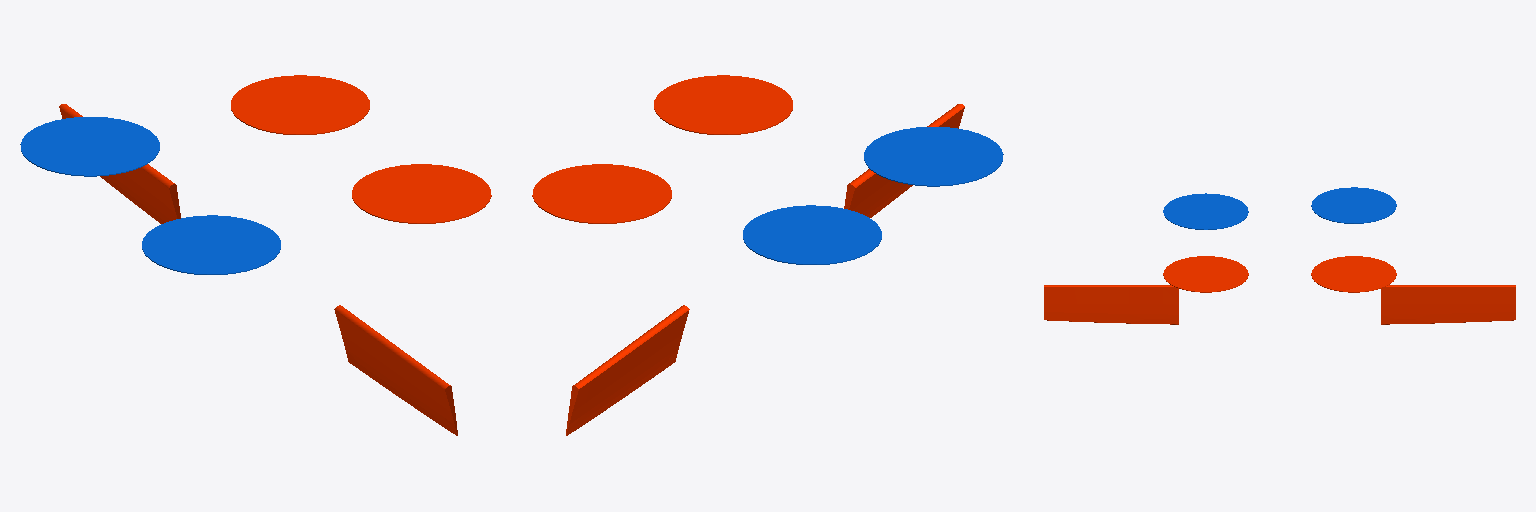
The robot description file, URDF, robot "FalconTailSitterV2":
<?xml version="1.0" ?>

<robot name="FalconTailSitterV2">

  <material name="white">
    <color rgba="1. 1. 1. 1.0"/>
  </material>

  <material name="black">
    <color rgba="0. 0. 0. 1.0"/>
  </material>

  <material name="blue0">
    <color rgba="15./255. 141./255. 238./255. 1.0"/>
  </material>

  <material name="darkgrey">
    <color rgba="0.4 0.4 0.4 1.0"/>
  </material>

  <material name="blue1">
    <color rgba="0.06 0.46 0.9 0.6"/>
  </material>

  <material name="orange_redish">
    <color rgba="1 0.25 0 0.4"/>
  </material>

  <configuration type="tailsitter"/>

  <properties arm="0.0635" kf="2.0e-8" km="2.74e-10" thrust2weight="2" max_speed_kmh="30" gnd_eff_coeff="11.36859" prop_radius="3.31348e-2" drag_coeff_xy="9.1785e-7" drag_coeff_z="10.311e-7" dw_coeff_1="2267.18" dw_coeff_2=".16" dw_coeff_3="-.11"/>

  <control>
    <indi actuator_nr="4" output_nr="4" />
    <indi_1 roll="  50.0  50.0 -50.0  -50.0" />
    <indi_2 pitch="-50.0  50.0  50.0  -50.0" />
    <indi_3 yaw="   -7.0   7.0  -7.0    7.0" />
    <indi_4 thrust=" 1.7   1.7   1.7    1.7" />

    <indi_guidance_gains>
      <pos kp="1.0" kd="2.2"/>
    </indi_guidance_gains>
    
    <indi_att_gains>
      <att  p="7." q="7." r="5." />
      <rate p="18." q="18." r="10." />
    </indi_att_gains>

    <pwm>
      <pwm2rpm scale="20000. 20000. 20000. 20000." const="0. 0. 0. 0." />
      <limit min="0  0  0  0" max="1  1  1  1" />
    </pwm>
  </control>


  <link name="base_link"> 

    <inertial>
      <origin rpy="0 0 0" xyz="0 0 0"/>
      <mass value="0.75"/>
      <inertia ixx="6.2e-4" ixy="0.0" ixz="0.0" iyy="6.2e-4" iyz="0.0" izz="1.1e-3"/>
    </inertial>

    <visual>
      <origin rpy="0 1.65 3.1415" xyz="-0.02 0 0.135"/>
      <geometry>
        <mesh filename="./tailsitter_falcon_geom/body.obj" scale="1. 1. 1."/>
      </geometry> 
      <material name="darkgrey"/>
    </visual>

    <collision>
      <origin rpy="0 0 0" xyz="0 0 0"/>
      <geometry>
        <cylinder radius="0.15" length=".1"/>
      </geometry>
    </collision>  

  </link>

  <link name="prop0_link">
    <inertial>
      <origin rpy="0 0 0" xyz="0.11 0.11 0"/>
      <mass value="0"/>
      <inertia ixx="0" ixy="0" ixz="0" iyy="0" iyz="0" izz="0"/>
    </inertial>
    <visual>
      <origin rpy="0 0 0" xyz="0.11 0.11 0.01"/>
      <geometry>
        <cylinder radius="0.0635" length=".001"/>
      </geometry>
      <material name="orange_redish"/>
    </visual> 
  </link>
  <joint name="prop0_joint" type="fixed">
    <parent link="base_link"/>
    <child link="prop0_link"/>
  </joint>

  <link name="prop1_link">
    <inertial>
      <origin rpy="0 0 0" xyz="-0.11 0.11 0"/>
      <mass value="0"/>
      <inertia ixx="0" ixy="0" ixz="0" iyy="0" iyz="0" izz="0"/>
    </inertial>
    <visual>
      <origin rpy="0 0 0" xyz="-0.11 0.11 0.02"/>
      <geometry>
        <cylinder radius="0.0635" length=".001"/>
      </geometry>
      <material name="blue1"/>
    </visual> 
  </link>
  <joint name="prop1_joint" type="fixed">
    <parent link="base_link"/>
    <child link="prop1_link"/>
  </joint>

  <link name="prop2_link">
    <inertial>
      <origin rpy="0 0 0" xyz="-0.11 -0.11 0.03"/>
      <mass value="0"/>
      <inertia ixx="0" ixy="0" ixz="0" iyy="0" iyz="0" izz="0"/>
    </inertial>
    <visual>
      <origin rpy="0 0 0" xyz="-0.11 -0.11 0.01"/>
      <geometry>
        <cylinder radius="0.0635" length=".001"/>
      </geometry>
      <material name="blue1"/>
    </visual> 
  </link>
  <joint name="prop2_joint" type="fixed">
    <parent link="base_link"/>
    <child link="prop2_link"/>
  </joint>

  <link name="prop3_link">
    <inertial>
      <origin rpy="0 0 0" xyz="0.11 -0.11 0.04"/>
      <mass value="0"/>
      <inertia ixx="0" ixy="0" ixz="0" iyy="0" iyz="0" izz="0"/>
    </inertial>
    <visual>
      <origin rpy="0 0 0" xyz="0.11 -0.11 0.01"/>
      <geometry>
        <cylinder radius="0.0635" length=".001"/>
      </geometry>
      <material name="orange_redish"/>
    </visual> 
  </link>
  <joint name="prop3_joint" type="fixed">
    <parent link="base_link"/>
    <child link="prop3_link"/>
  </joint>

  <link name="Rflap_link">
    <inertial>
      <origin rpy="0 0 0" xyz="0 0 0"/>
      <mass value="0"/>
      <inertia ixx="0" ixy="0" ixz="0" iyy="0" iyz="0" izz="0"/>
    </inertial>
    <visual>
      <origin rpy="0 1.65 3.1415" xyz="-0.02 0 0.205"/>
      <geometry>
        <mesh filename="./tailsitter_falcon_geom/Rflap.obj" scale="1. 1. 1."/>
      </geometry>
      <material name="orange_red">
        <color rgba="1 0.25 0 0.9"/>
      </material>
    </visual> 
  </link>
  <joint name="Rflap_joint" type="revolute">
    <axis xyz="0 1 0"/>
    <origin rpy="0 0 0" xyz="0. 0. -0.07"/>
    <parent link="base_link"/>
    <child link="Rflap_link"/>
    <limit effort="1" velocity="0.5"/>
    <joint_properties damping="0.0" friction="0.0"/>
  </joint>

  <link name="Lflap_link">
    <inertial>
      <origin rpy="0 0 0" xyz="0 0 0"/>
      <mass value="0"/>
      <inertia ixx="0" ixy="0" ixz="0" iyy="0" iyz="0" izz="0"/>
    </inertial>
    <visual>
      <origin rpy="0 1.65 3.1415" xyz="-0.02 0 0.205"/>
      <geometry>
        <mesh filename="./tailsitter_falcon_geom/Lflap.obj" scale="1. 1. 1."/>
      </geometry>
      <material name="orange_red">
        <color rgba="1 0.25 0 0.9"/>
      </material>
    </visual> 
  </link>
  <joint name="Lflap_joint" type="revolute">
    <axis xyz="0 1 0"/>
    <origin rpy="0 0 0" xyz="0. 0. -0.07"/>
    <parent link="base_link"/>
    <child link="Lflap_link"/>
    <limit effort="1" velocity="0.5"/>
    <joint_properties damping="0.0" friction="0.0"/>
  </joint>

  <link name="center_of_mass_link">
    <inertial>
      <origin rpy="0 0 0" xyz="0 0 0"/>
      <mass value="0"/>
      <inertia ixx="0" ixy="0" ixz="0" iyy="0" iyz="0" izz="0"/>
    </inertial>
  </link>
  <joint name="center_of_mass_joint" type="fixed">
    <parent link="base_link"/>
    <child link="center_of_mass_link"/>
  </joint>

</robot>

--- What the picture shows (computed from the rendered views, not written in the file) ---
The picture shows the robot from 3 angles, left to right: view 1: azimuth 30°, elevation 25°; view 2: azimuth 150°, elevation 25°; view 3: azimuth 270°, elevation 25°; orthographic projection.
Model FalconTailSitterV2 with 8 links and 7 joints (2 revolute, 5 fixed), rooted at base_link, posed all joints at 0.
Visible links, largest first — view 1: prop3_link, prop0_link, prop1_link, prop2_link, Rflap_link, Lflap_link; view 2: prop0_link, prop2_link, prop1_link, prop3_link, Lflap_link, Rflap_link; view 3: Lflap_link, Rflap_link, prop0_link, prop1_link, prop3_link, prop2_link.
Boxes of the visible links, left/top/right/bottom form: prop3_link: left=352, top=164, right=491, bottom=223; prop0_link: left=231, top=75, right=369, bottom=134; prop1_link: left=20, top=117, right=159, bottom=176; prop2_link: left=142, top=215, right=280, bottom=274; Rflap_link: left=334, top=305, right=457, bottom=435; Lflap_link: left=59, top=104, right=180, bottom=223; prop0_link: left=532, top=164, right=671, bottom=223; prop2_link: left=864, top=127, right=1003, bottom=186; prop1_link: left=743, top=205, right=881, bottom=264; prop3_link: left=654, top=75, right=792, bottom=134; Lflap_link: left=566, top=305, right=689, bottom=435; Rflap_link: left=844, top=104, right=964, bottom=217; Lflap_link: left=1381, top=285, right=1515, bottom=324; Rflap_link: left=1044, top=285, right=1178, bottom=324; prop0_link: left=1311, top=256, right=1396, bottom=292; prop1_link: left=1311, top=187, right=1396, bottom=223; prop3_link: left=1163, top=256, right=1248, bottom=292; prop2_link: left=1163, top=193, right=1248, bottom=229.
Size in the robot's own frame: 0.347 by 0.7 by 0.1393 metres.
2 mesh visuals loaded from 3 distinct referenced files (2 OBJ); not drawn: 1 (reference not matched to a file when rendering).